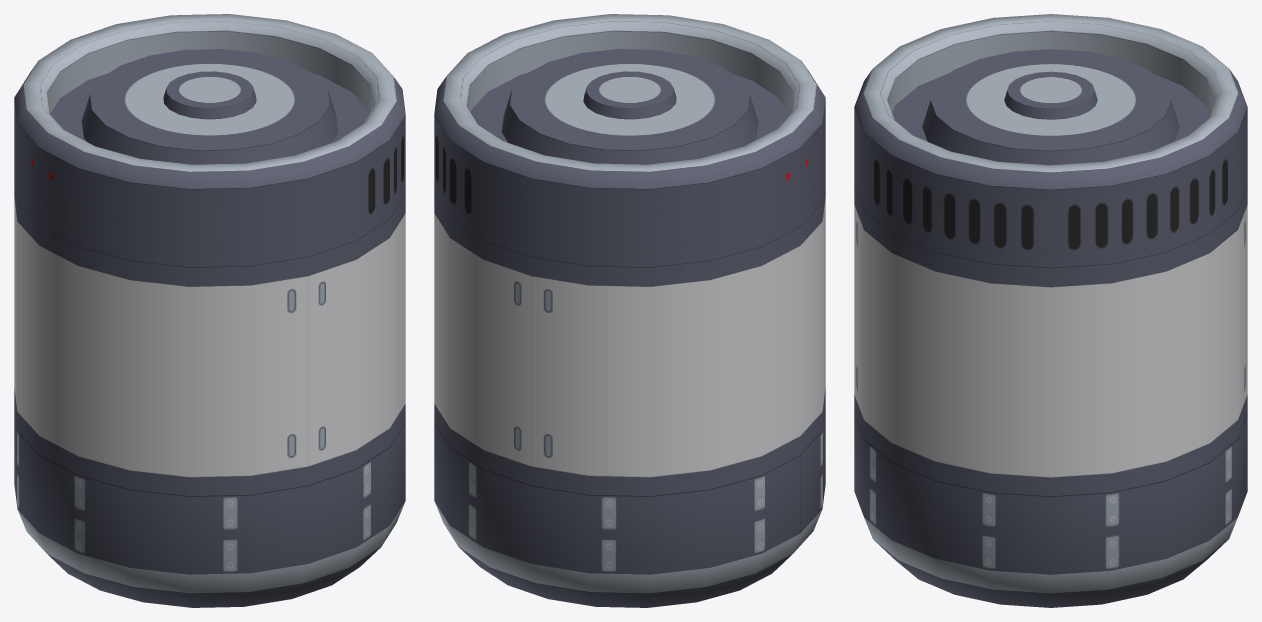
File: Barrel_01.FBX
The picture shows the model from 3 angles, left to right: view 1: azimuth 30°, elevation 25°; view 2: azimuth 150°, elevation 25°; view 3: azimuth 270°, elevation 25°; orthographic projection.
Parts seen in each view (by area): view 1: Barrel_01; view 2: Barrel_01; view 3: Barrel_01.
Part boxes in pixels (x1,y1,x2,y2): Barrel_01: [14, 14, 405, 607]; Barrel_01: [434, 14, 825, 607]; Barrel_01: [854, 14, 1247, 607].
Bounding box in the file's own units: 1 × 1.26 × 1.
2 materials, 2 textured.
